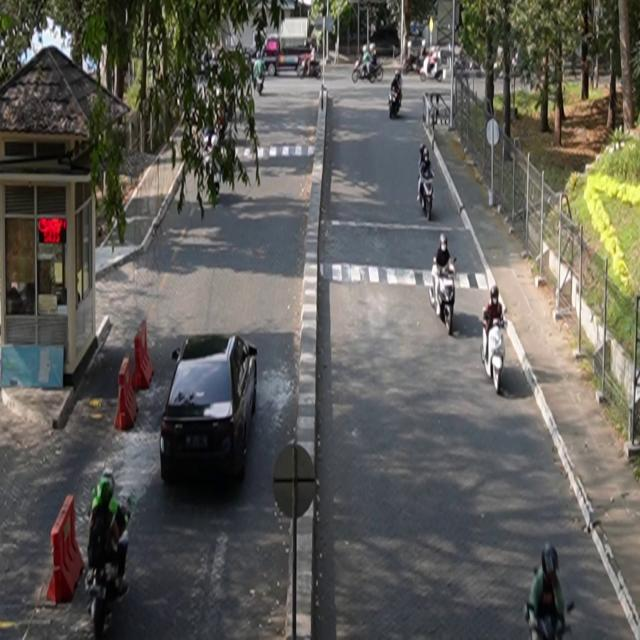car: (161, 334, 259, 487)
